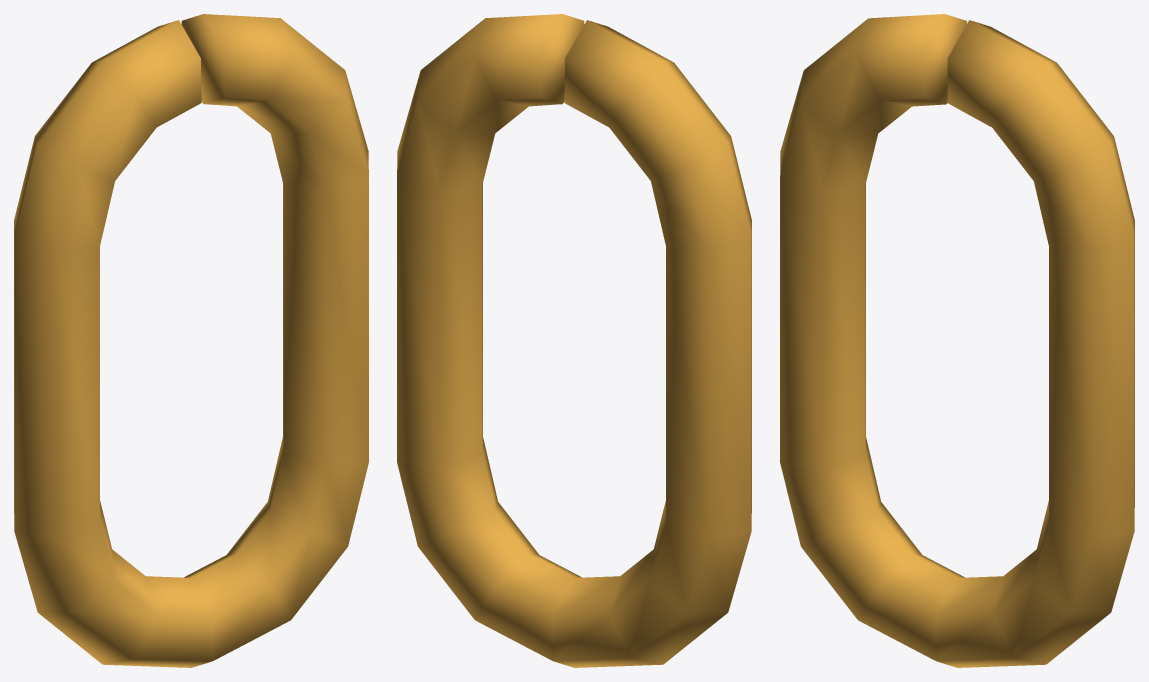
The model's file is Obstacle_Clamp_Chain.fbx.
3 views of the same model, side by side, from view 1: azimuth 30°, elevation 25°; view 2: azimuth 150°, elevation 25°; view 3: azimuth 330°, elevation 25° (orthographic).
Parts seen in each view (by area): view 1: Chain.001; view 2: Chain.001; view 3: Chain.001.
Part boxes in pixels (bbox=[...]): Chain.001: bbox=[14, 14, 368, 667]; Chain.001: bbox=[397, 14, 751, 667]; Chain.001: bbox=[780, 14, 1134, 667].
Size of the model in its own units: 57.84 by 102 by 12.17.
